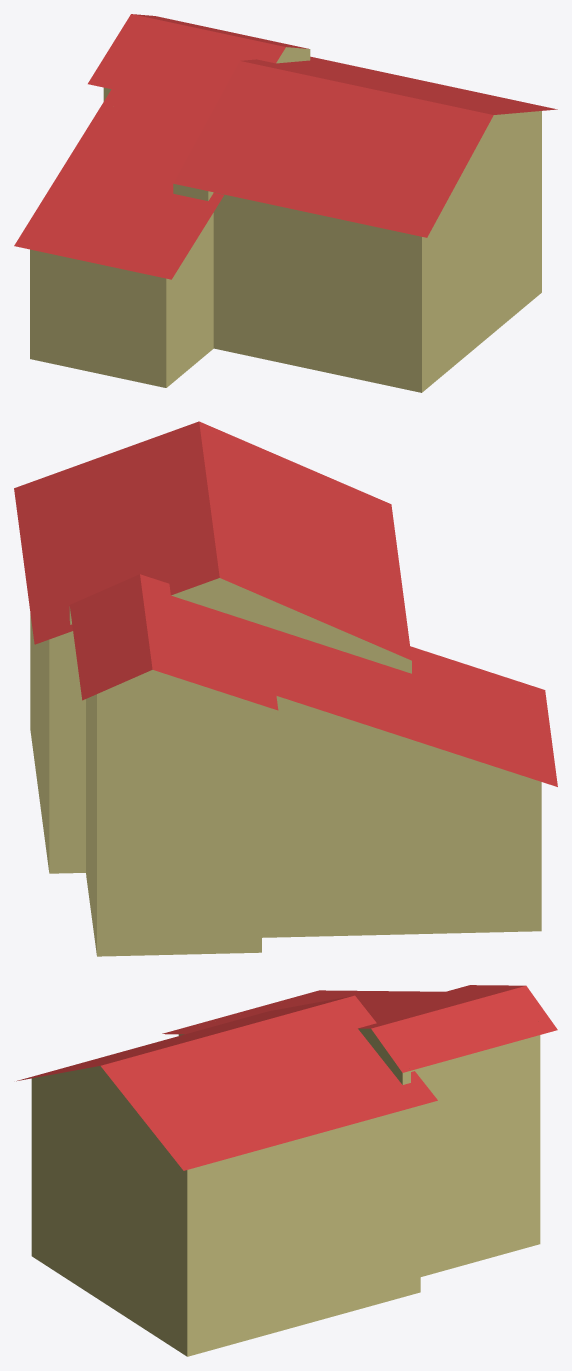
3 renders of one model, top to bottom at view 1: azimuth 30°, elevation 25°; view 2: azimuth 150°, elevation 25°; view 3: azimuth 270°, elevation 25°, orthographic. The views are drawn at different scales.
Size of the model in its own units: 23.16 by 21.24 by 10.54.
